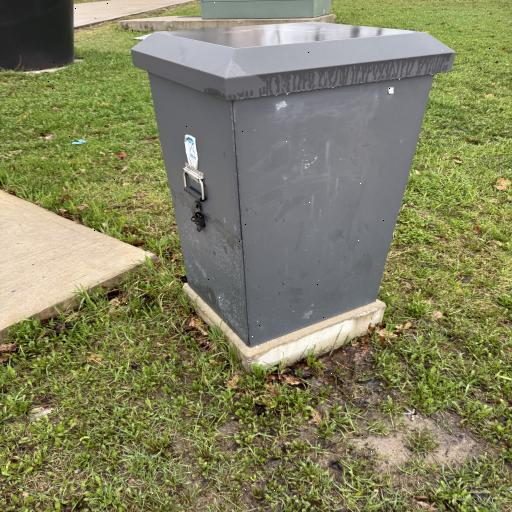Electrical Box: (130, 23, 456, 351)
